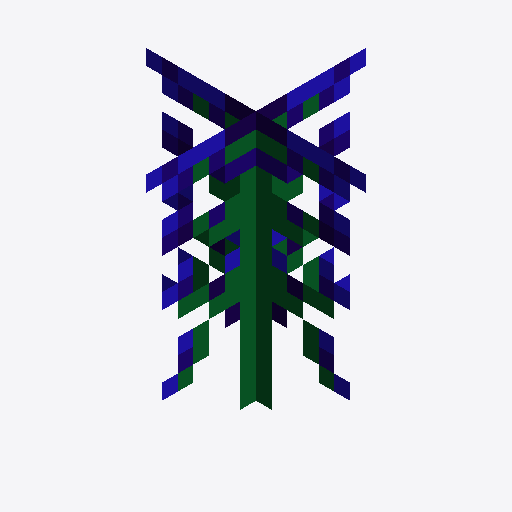
A Minecraft block model of 66 cuboids, rendered isometrically (azimuth 45°, elevation 35.3°) with the resource pack's own textures.
Visible parts, largest first — BottomStalk (×2), element 29, element 60, element 6, element 31, element 57, element 62, element 2, element 59, element 30, element 63, element 3 (+27 smaller).
Part boxes in pixels (x1,y1,x2,y2): BottomStalk (×2): (240,102,271,409); element 29: (209,193,239,246); element 60: (272,193,302,246); element 6: (178,320,208,372); element 31: (162,202,192,255); element 57: (303,320,333,372); element 62: (319,202,349,255); element 2: (225,247,239,327); element 59: (272,247,286,327); element 30: (319,112,349,155); element 63: (162,112,192,155); element 3: (225,121,239,182).
Size of the model in its own units: 14 by 16 by 14.